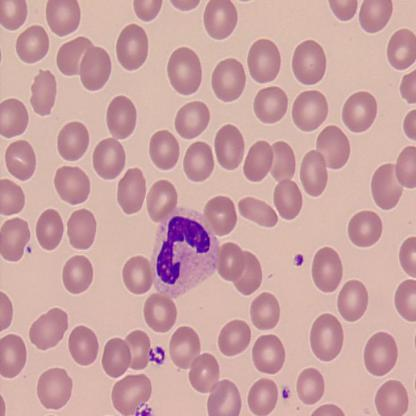Segmented neutrophil: (148, 203, 220, 301)
